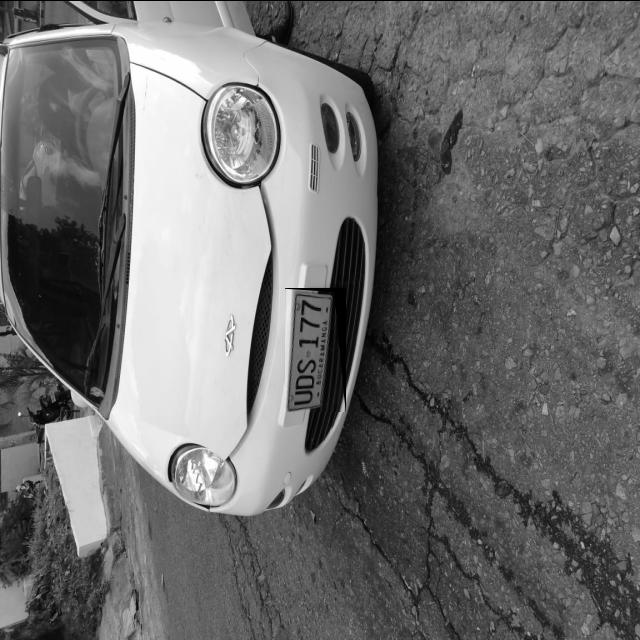plate: (285, 287, 337, 410)
